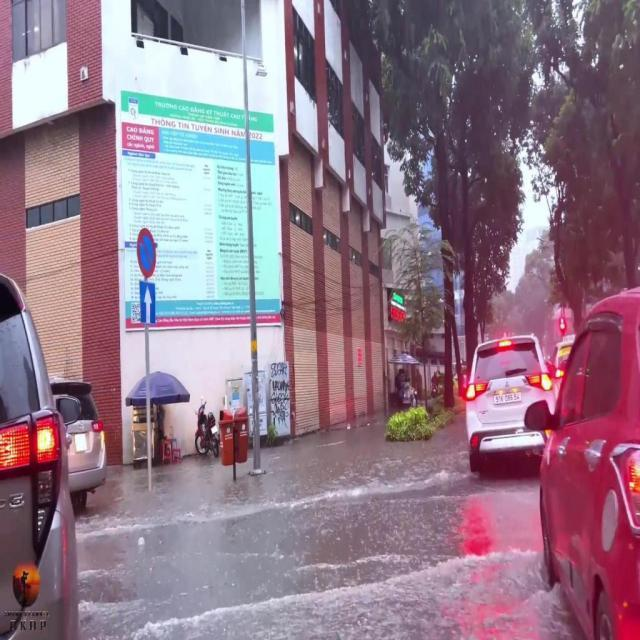131a-cam-do-xe: (136, 228, 158, 277)
407a-duong-mot-chieu: (140, 282, 156, 326)
